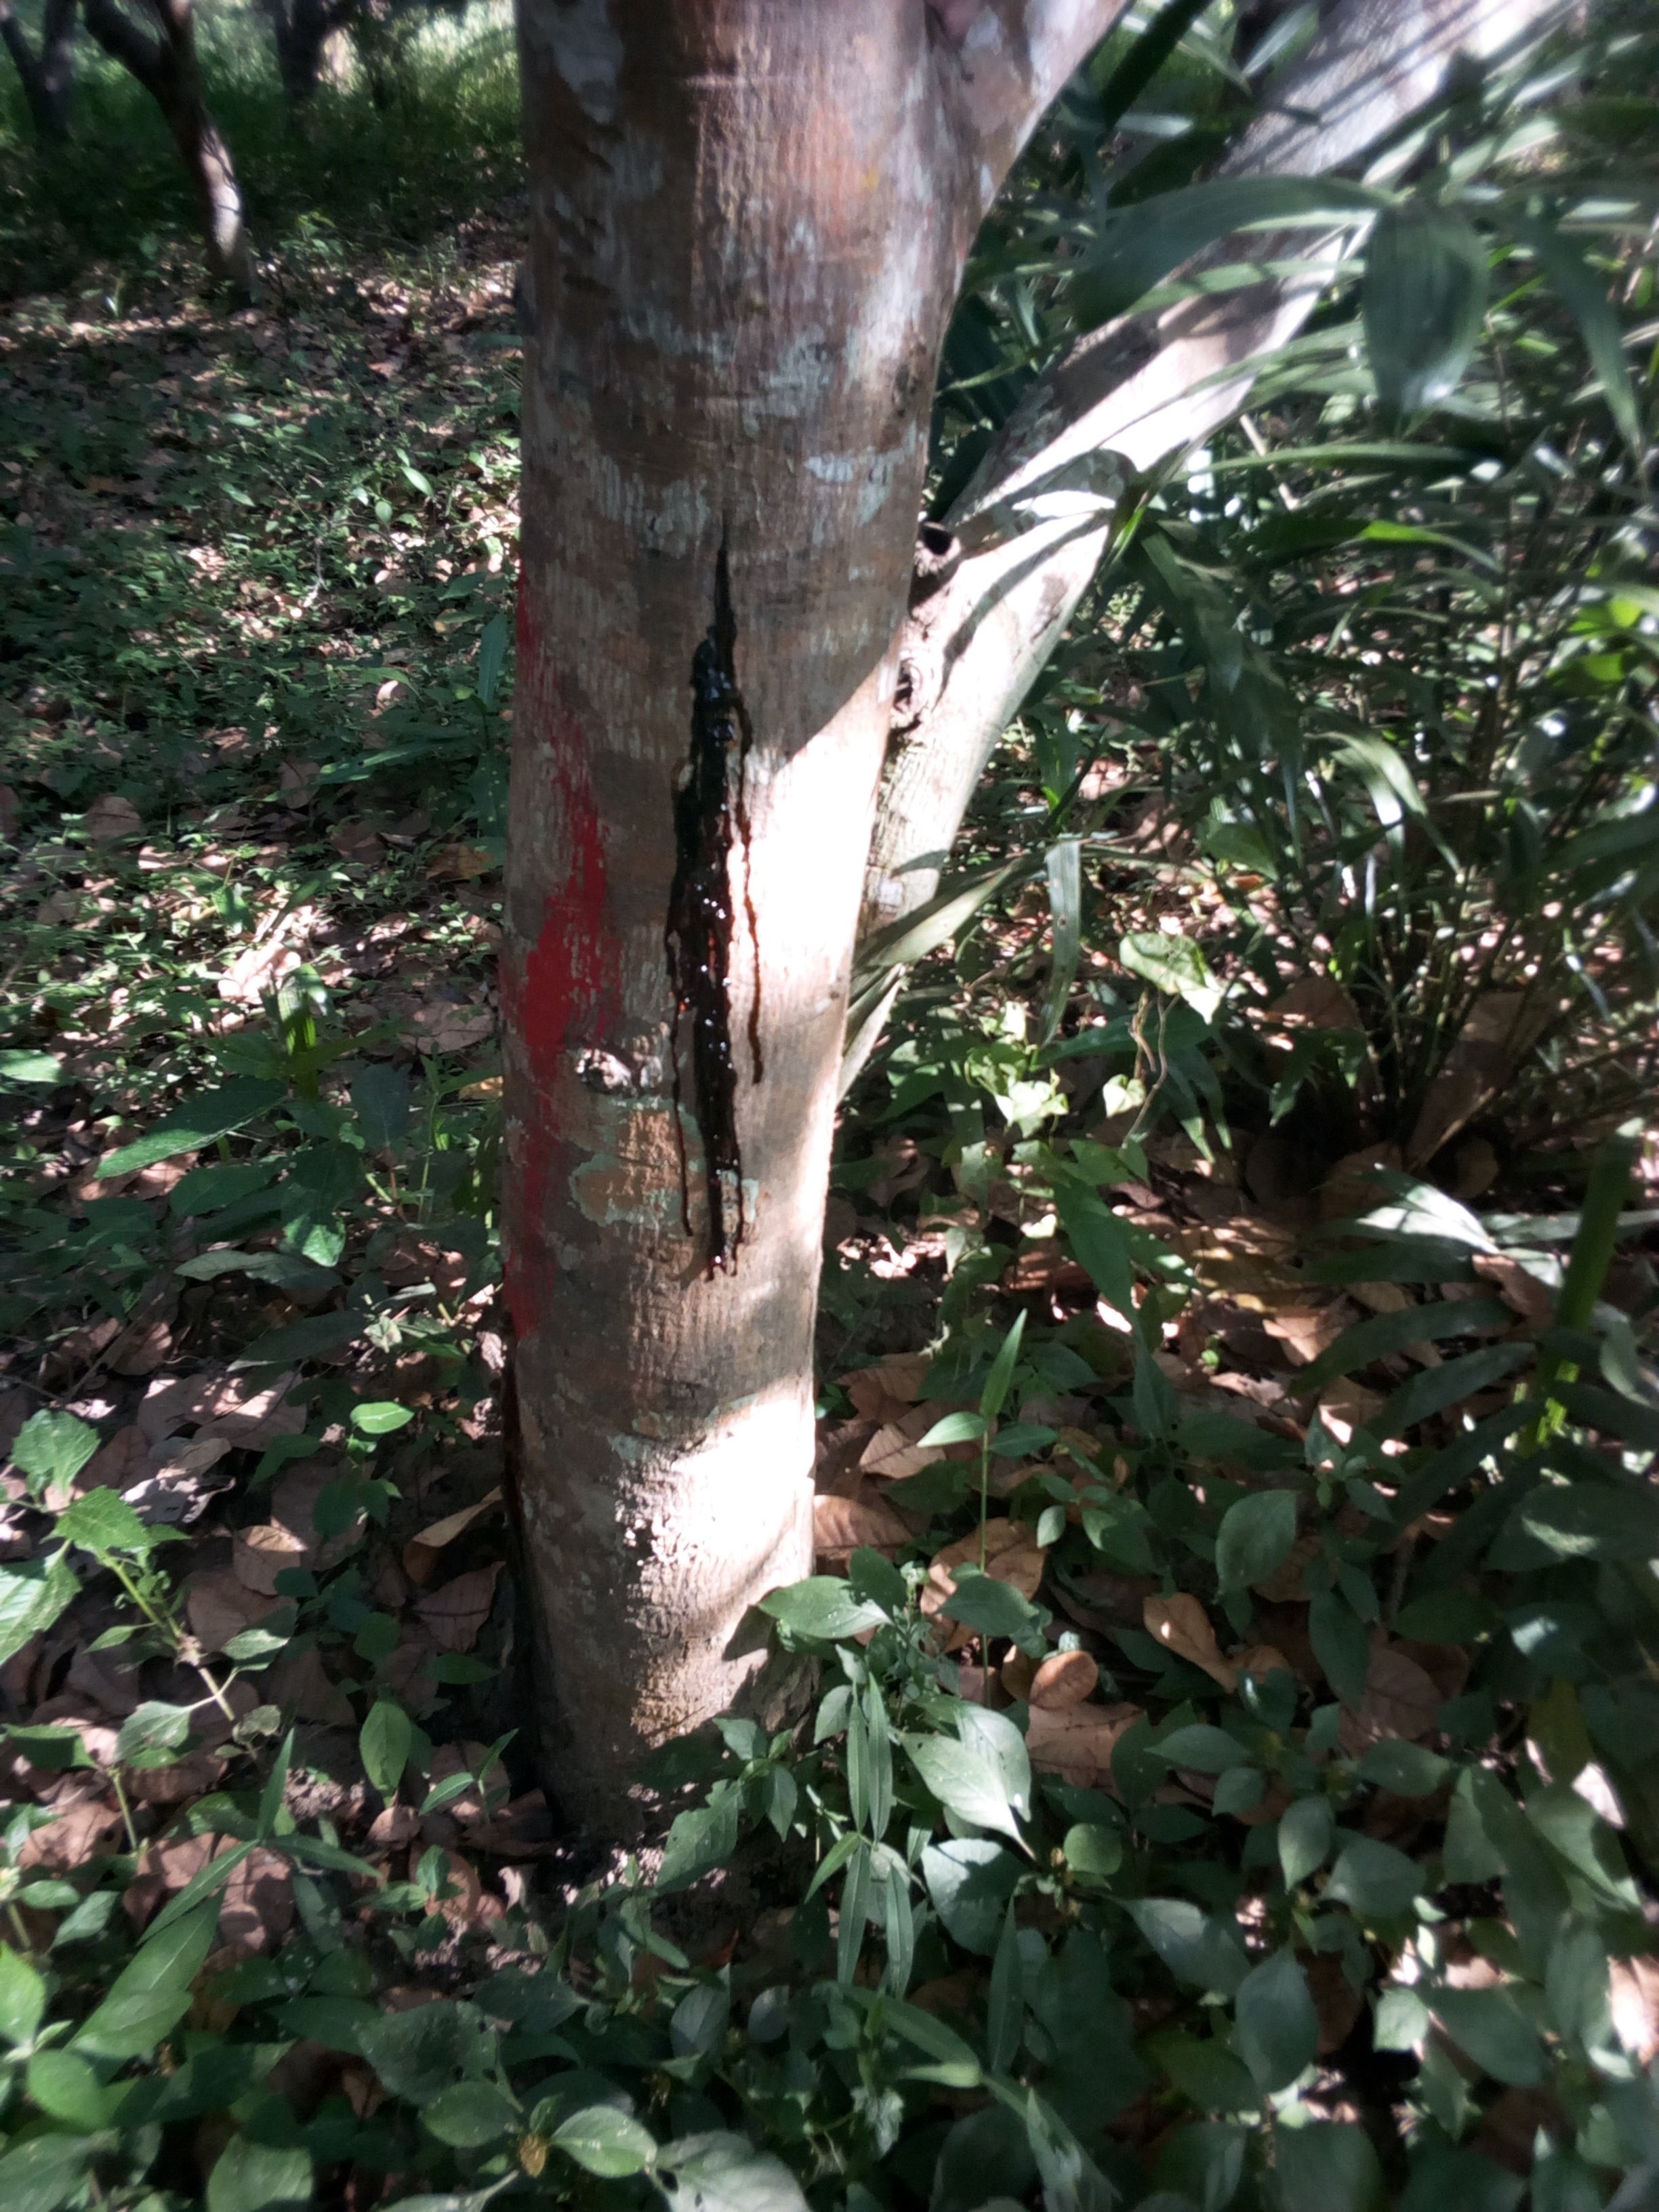ploceadorus ferrugineus: (542, 503, 931, 1325)
